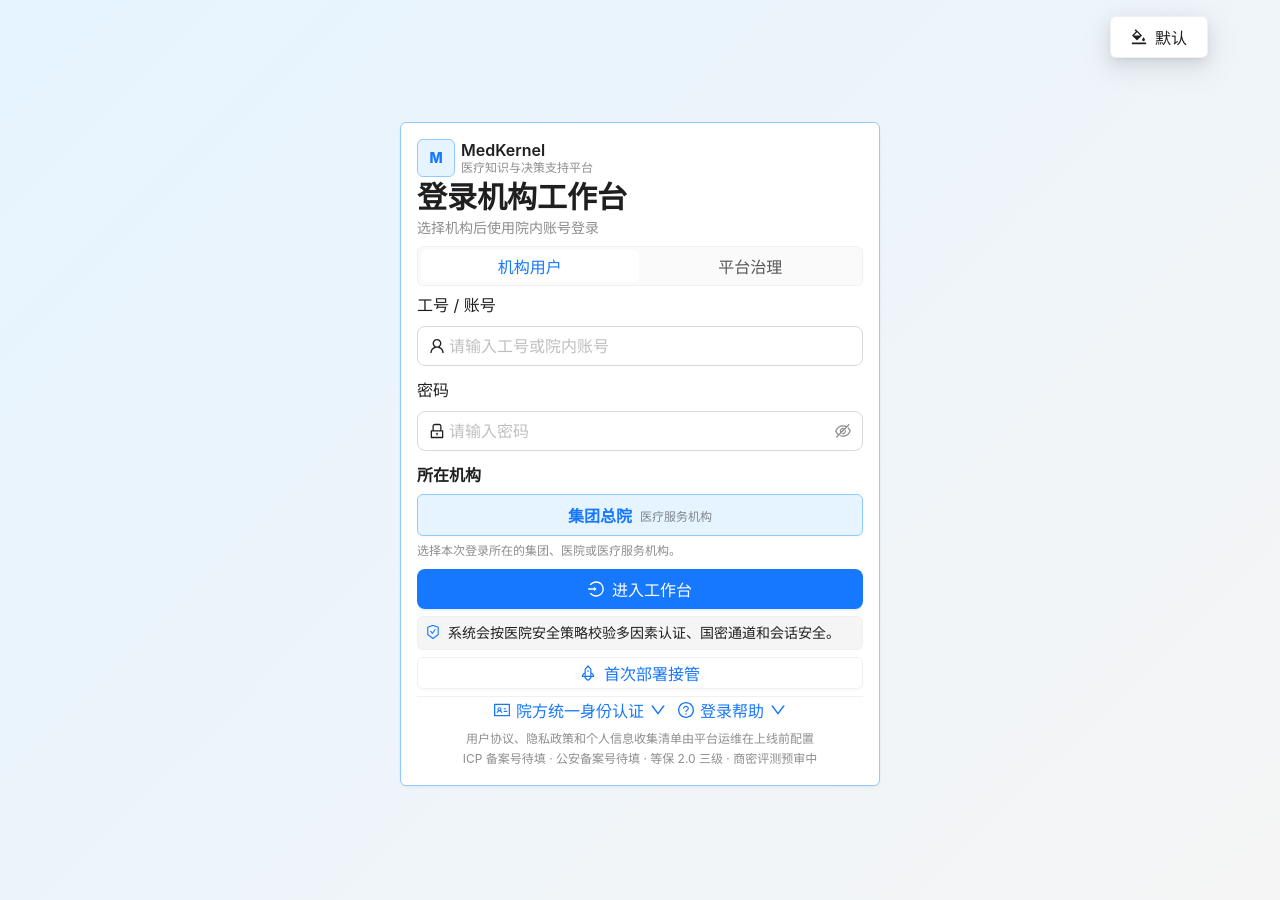
Scenario: Login › 统一身份入口折叠展示待配置方式
The width and height of the screenshot is (1280, 900).
What coordinates should you click on to do the following:
click the button "院方统一身份认证"
I would click on:
 (580, 710)
Its box is [493,697,667,723].
(page scrolled)
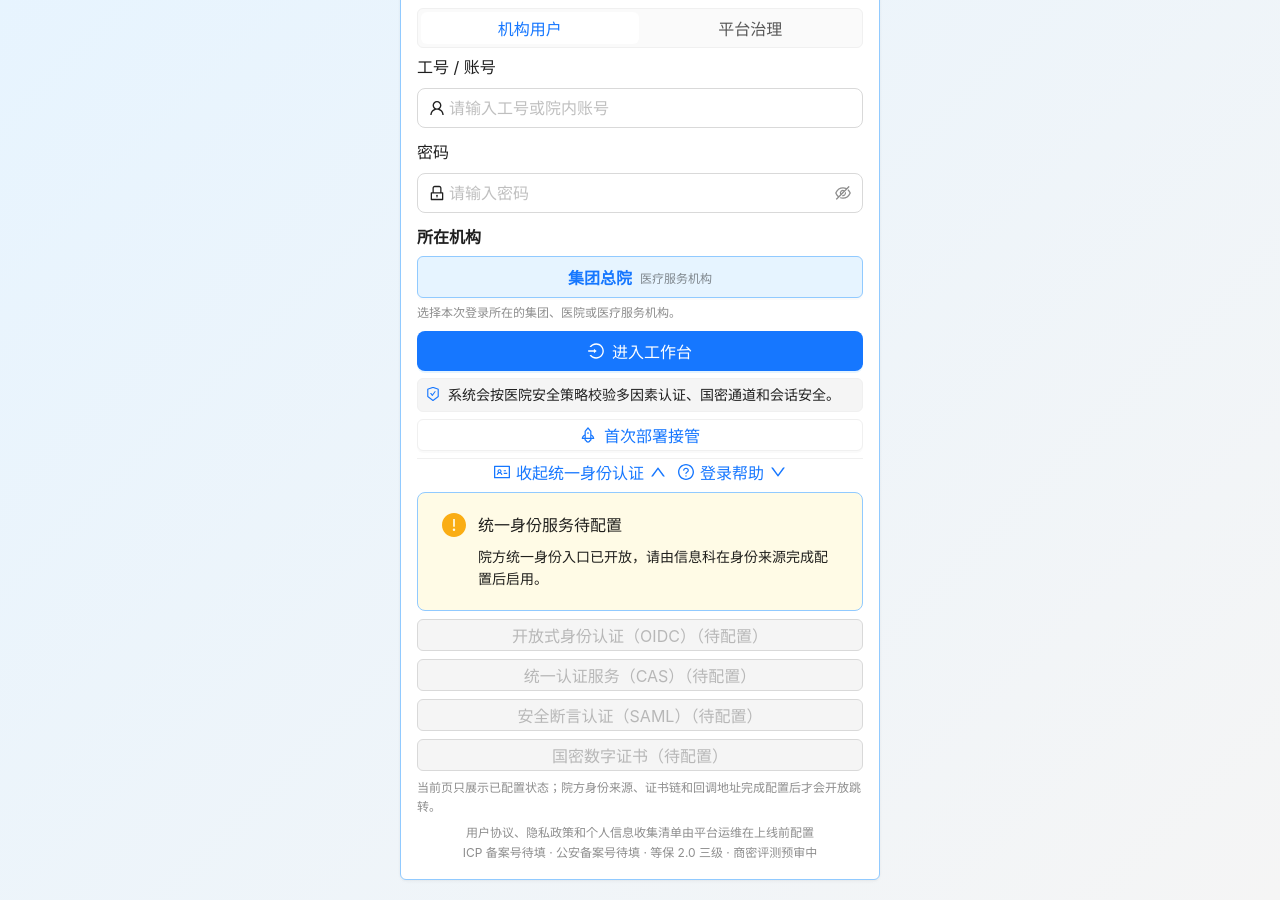
Expected: the text "统一身份服务待配置" is shown, [478,515,622,535]
Expected: the text "院方统一身份入口已开放，请由信息科在身份来源完成配置后启用。" is shown, [478,546,838,590]
Expected: the button "开放式身份认证（OIDC）（待配置）" is disabled, [417,619,863,651]
